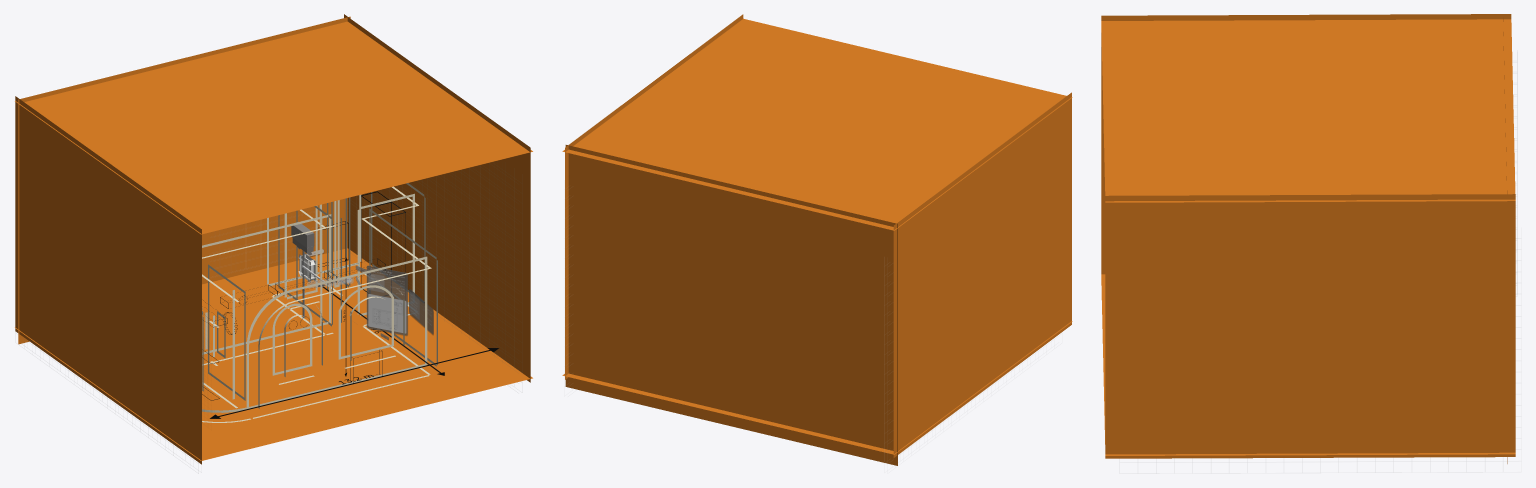
File: roomLeft6.glb
3 views of the same model, side by side, from view 1: azimuth 30°, elevation 25°; view 2: azimuth 150°, elevation 25°; view 3: azimuth 270°, elevation 25° (orthographic). The views are drawn at different scales.
Visible parts, largest first — view 1: Plane.027, Plane.026, Plane.028, Plane.025, posta_v1.005, Plane.024, leftroomMunacipality, prices, Group 899, Cube.012; view 2: Plane.024, Plane.027, Plane.026, Plane.025, Plane.028; view 3: Plane.025, Plane.027, Plane.026, Plane.028.
Boxes of the visible parts, left/top/right/bottom form: Plane.027: left=15, top=21, right=532, bottom=234; Plane.026: left=15, top=96, right=201, bottom=464; Plane.028: left=15, top=248, right=532, bottom=460; Plane.025: left=344, top=14, right=530, bottom=382; posta_v1.005: left=202, top=183, right=437, bottom=422; Plane.024: left=18, top=16, right=350, bottom=344; leftroomMunacipality: left=366, top=265, right=407, bottom=335; prices: left=409, top=289, right=433, bottom=334; Group 899: left=210, top=348, right=498, bottom=418; Cube.012: left=291, top=221, right=314, bottom=255; Plane.024: left=565, top=145, right=897, bottom=465; Plane.027: left=562, top=18, right=1072, bottom=230; Plane.026: left=893, top=92, right=1071, bottom=457; Plane.025: left=565, top=14, right=743, bottom=379; Plane.028: left=562, top=321, right=1072, bottom=454; Plane.025: left=1105, top=194, right=1515, bottom=458; Plane.027: left=1101, top=19, right=1515, bottom=202; Plane.026: left=1101, top=14, right=1511, bottom=274; Plane.028: left=1101, top=274, right=1515, bottom=455.
Size of the model in its own units: 49.3 by 35.54 by 47.63.
Materials: 39 (21 with a texture image).
